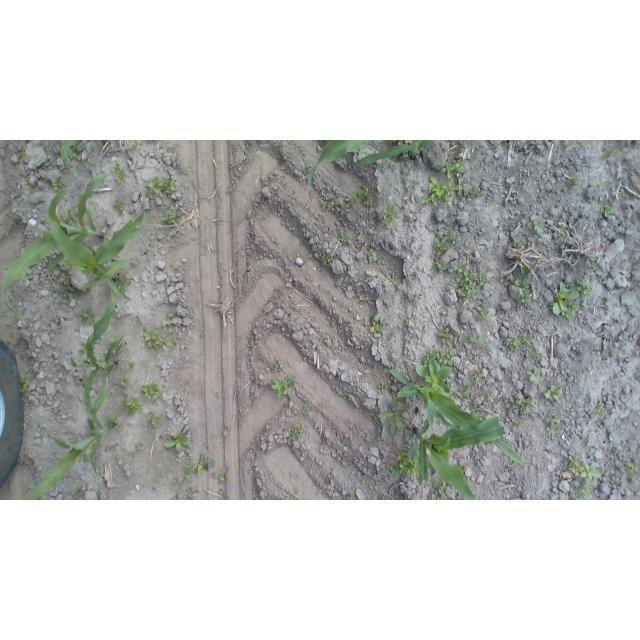Maize: (1, 171, 129, 321), (388, 368, 526, 466), (47, 182, 146, 302), (21, 377, 115, 500), (410, 404, 507, 500), (308, 140, 433, 204), (71, 283, 120, 429), (60, 140, 104, 172)
Weeds: (416, 347, 457, 393), (421, 177, 459, 207), (549, 281, 579, 318), (379, 399, 409, 435), (460, 271, 486, 303), (396, 447, 419, 477), (439, 157, 466, 180), (272, 376, 297, 400), (185, 453, 208, 477), (208, 457, 229, 483), (163, 433, 191, 452), (435, 231, 457, 255), (119, 397, 144, 416), (513, 279, 532, 304), (579, 463, 601, 484), (56, 205, 76, 227), (147, 177, 166, 200), (379, 202, 396, 226), (139, 383, 163, 400), (144, 330, 163, 351), (161, 206, 180, 227), (545, 385, 564, 404), (575, 277, 593, 297), (78, 307, 96, 326), (115, 272, 132, 292), (357, 185, 372, 206), (112, 160, 126, 182), (456, 383, 473, 400), (369, 315, 383, 334), (567, 455, 579, 477), (62, 287, 82, 300), (147, 411, 163, 427), (165, 178, 180, 195), (527, 367, 541, 385), (439, 328, 454, 344), (625, 463, 640, 478), (162, 334, 178, 348), (320, 251, 333, 268), (269, 357, 283, 372), (386, 272, 401, 286), (435, 258, 449, 273), (516, 398, 533, 410), (532, 217, 544, 233), (467, 186, 483, 198), (439, 481, 449, 500), (19, 376, 30, 393), (507, 240, 527, 249), (298, 406, 311, 419), (595, 405, 607, 419), (600, 203, 612, 217), (509, 336, 520, 351), (60, 273, 72, 286), (52, 175, 62, 190), (113, 419, 124, 432), (294, 424, 305, 437), (70, 145, 79, 160), (469, 334, 481, 345), (339, 233, 350, 244), (522, 333, 533, 344), (521, 266, 532, 277), (570, 176, 581, 187), (377, 381, 387, 393), (131, 140, 143, 150), (581, 484, 592, 494), (456, 263, 466, 274), (479, 309, 490, 319), (572, 491, 584, 500), (112, 343, 122, 353), (347, 490, 357, 500), (472, 371, 482, 381), (547, 424, 557, 434), (186, 486, 193, 500), (320, 200, 328, 212), (345, 194, 357, 202), (367, 248, 375, 260), (166, 314, 173, 327), (72, 489, 81, 499), (220, 491, 230, 500), (552, 414, 561, 424), (503, 140, 518, 146), (14, 153, 20, 168), (389, 463, 396, 475), (387, 330, 396, 339), (126, 361, 134, 371), (121, 378, 129, 388), (78, 454, 88, 462), (430, 479, 438, 489), (567, 141, 578, 148), (113, 200, 124, 207), (331, 202, 339, 211), (222, 428, 231, 436), (589, 262, 598, 270), (182, 479, 192, 486), (487, 392, 494, 402), (531, 351, 541, 358), (609, 178, 619, 185), (78, 372, 86, 380), (71, 436, 79, 444), (359, 295, 367, 303), (474, 412, 482, 420), (25, 182, 34, 189), (54, 407, 61, 415), (172, 479, 180, 486), (89, 248, 96, 256), (605, 149, 612, 157), (587, 140, 594, 148), (635, 284, 640, 295), (71, 233, 80, 239), (428, 494, 437, 500), (118, 206, 124, 215), (515, 421, 522, 428), (559, 224, 566, 231), (111, 337, 118, 344), (154, 470, 162, 476), (614, 448, 619, 456), (226, 186, 231, 194), (289, 494, 295, 500), (201, 331, 207, 337), (319, 334, 325, 340), (78, 349, 84, 355), (341, 202, 346, 209), (290, 301, 295, 308), (81, 242, 87, 247), (342, 392, 348, 397), (599, 303, 605, 308), (58, 146, 63, 152), (91, 381, 95, 388), (382, 496, 389, 500), (599, 183, 604, 188), (325, 480, 330, 485), (575, 376, 580, 381), (81, 343, 86, 348), (615, 148, 621, 152), (46, 305, 51, 309), (448, 282, 453, 286), (372, 296, 377, 300), (31, 230, 35, 235), (85, 160, 90, 164), (191, 238, 197, 241), (623, 140, 632, 142), (488, 349, 492, 352)
